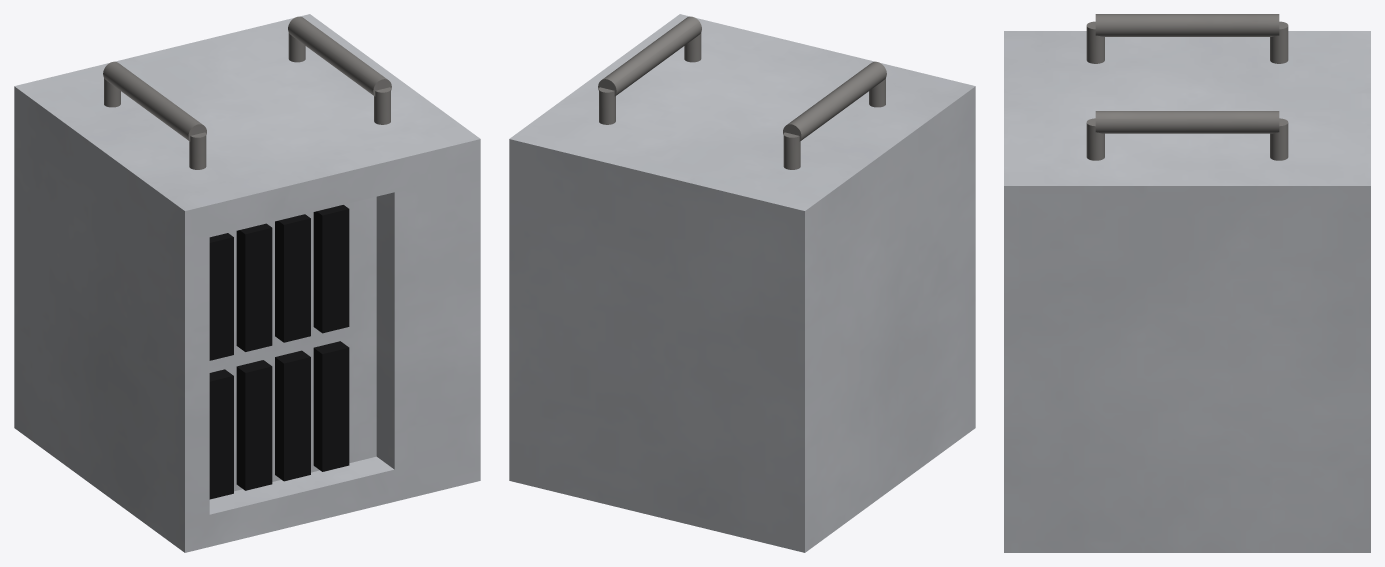
The model's file is power05_battery_m.glb.
3 renders of one model, left to right at view 1: azimuth 30°, elevation 25°; view 2: azimuth 150°, elevation 25°; view 3: azimuth 270°, elevation 25°, orthographic. The views are drawn at different scales.
Visible parts, largest first — view 1: battery_case, cell_modules, handles; view 2: battery_case, handles; view 3: battery_case, handles.
Boxes of the visible parts, x1=… form: battery_case: x1=14, y1=14, x2=480, y2=552; cell_modules: x1=209, y1=205, x2=349, y2=499; handles: x1=103, y1=16, x2=391, y2=169; battery_case: x1=509, y1=14, x2=975, y2=552; handles: x1=598, y1=16, x2=886, y2=169; battery_case: x1=1004, y1=31, x2=1370, y2=552; handles: x1=1086, y1=14, x2=1288, y2=160.
Size of the model in its own units: 0.48 by 0.595 by 0.48.
Materials: 4 (2 with a texture image).
